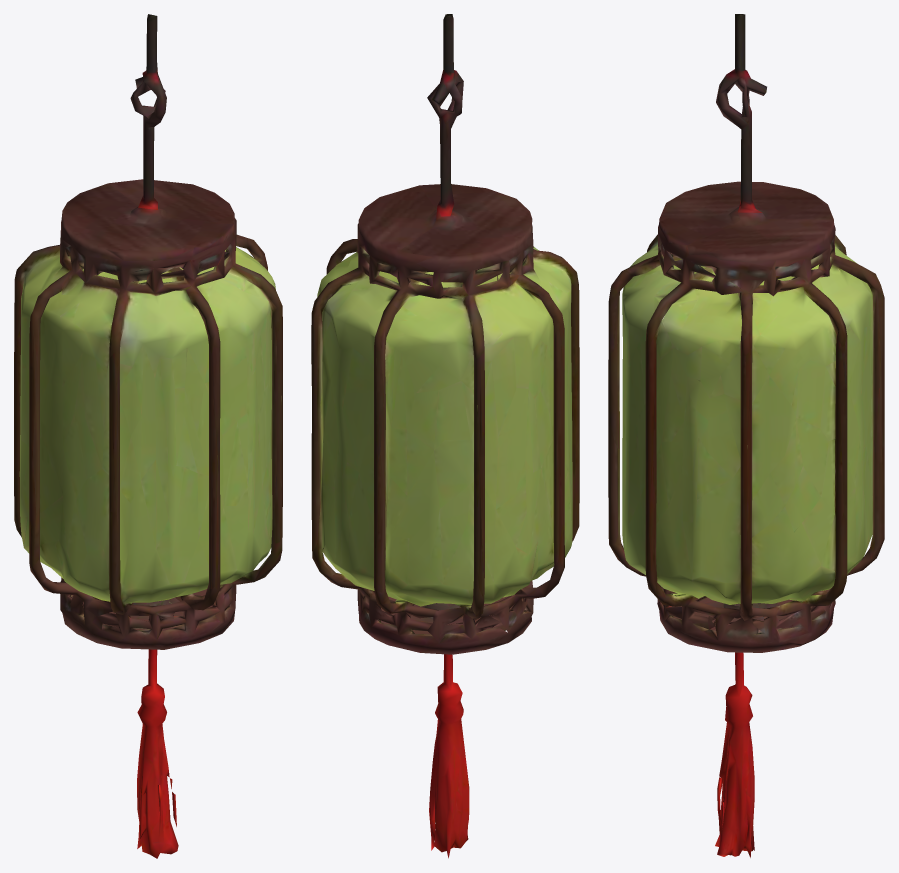
The model's file is shadeng.glb.
The picture shows the model from 3 angles, left to right: view 1: azimuth 30°, elevation 25°; view 2: azimuth 150°, elevation 25°; view 3: azimuth 270°, elevation 25°; orthographic projection.
Visible parts, largest first — view 1: tripo_node_bd3339c3-5fec-497b-8a3f-e51281324d3a; view 2: tripo_node_bd3339c3-5fec-497b-8a3f-e51281324d3a; view 3: tripo_node_bd3339c3-5fec-497b-8a3f-e51281324d3a.
Boxes of the visible parts, x1,y1,x2,y2 form: tripo_node_bd3339c3-5fec-497b-8a3f-e51281324d3a: (14,14,282,858); tripo_node_bd3339c3-5fec-497b-8a3f-e51281324d3a: (311,14,579,858); tripo_node_bd3339c3-5fec-497b-8a3f-e51281324d3a: (608,14,884,857).
Bounding box in the file's own units: 0.2961 × 1 × 0.2981.
1 material, 1 textured.
